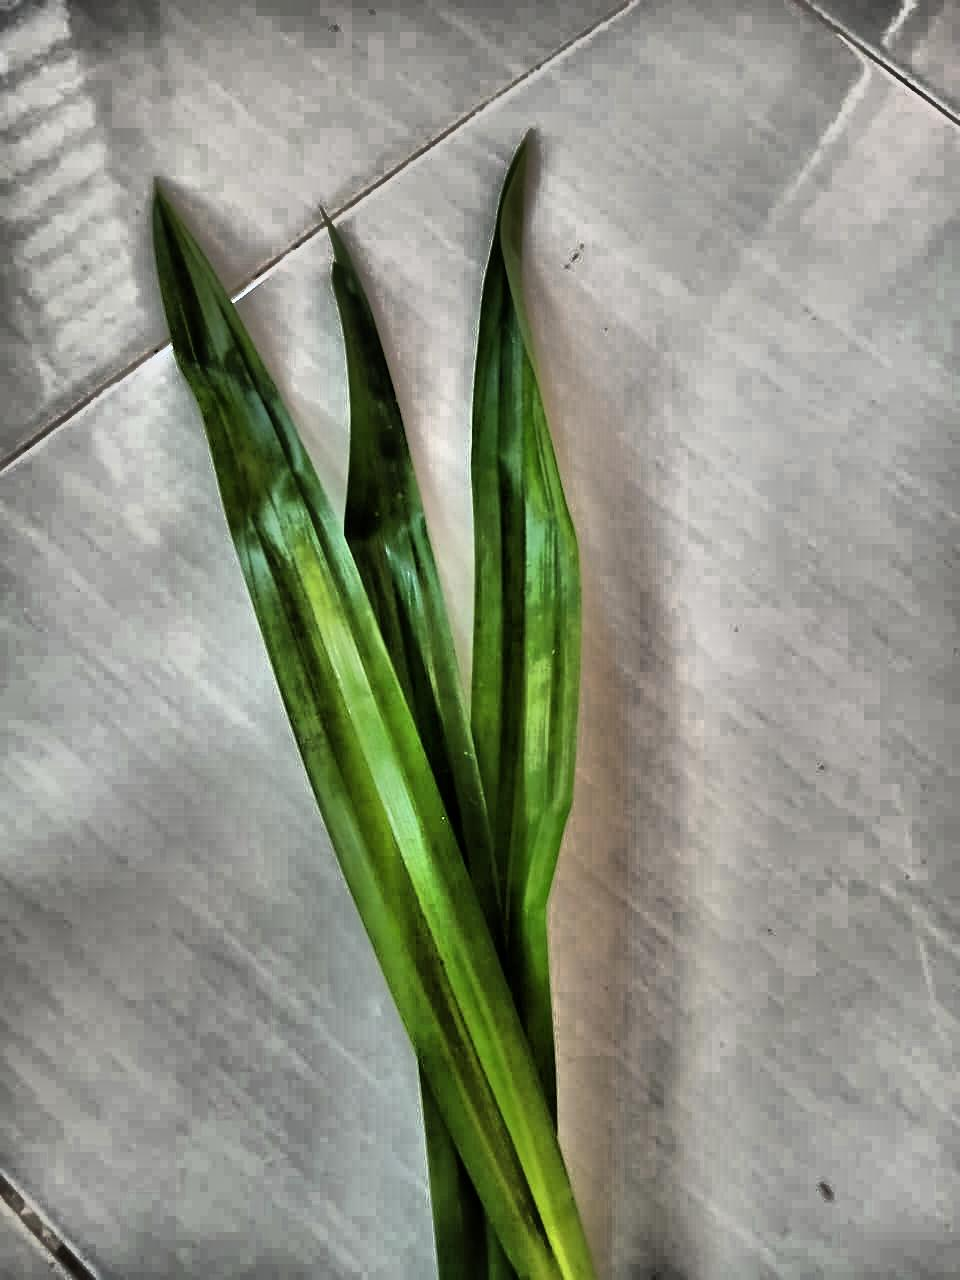daun pandan: (154, 143, 598, 1279)
